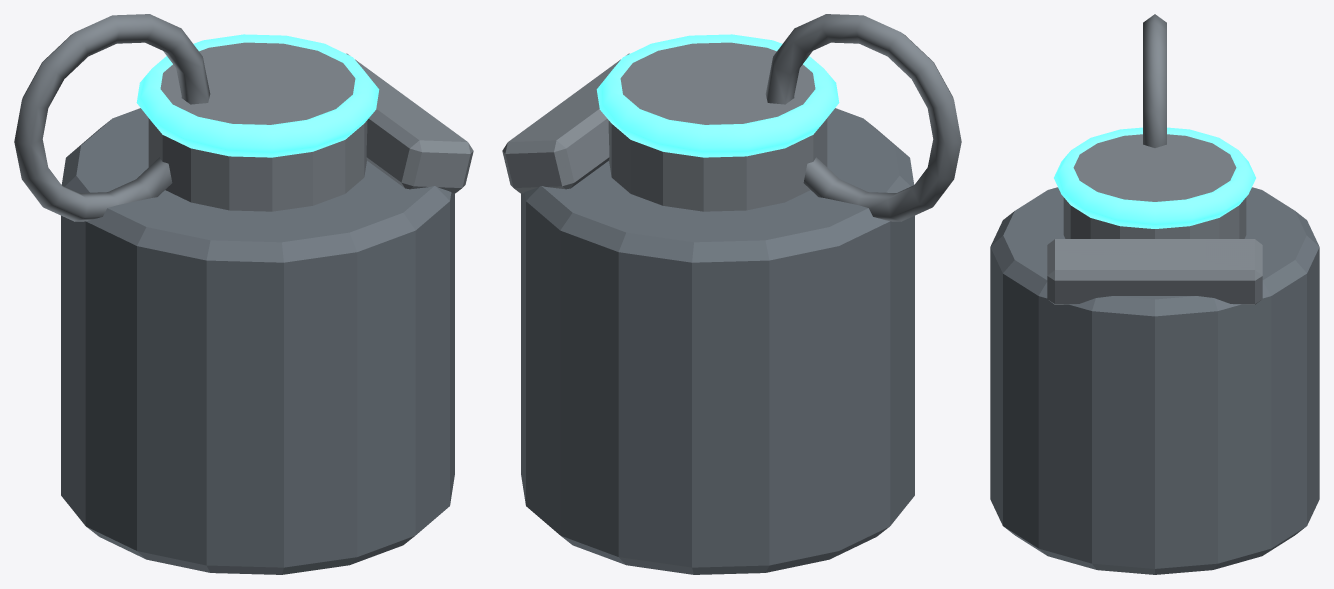
Rendered from PROP_Grenade_FP_v01.glb.
The picture shows the model from 3 angles, left to right: view 1: azimuth 30°, elevation 25°; view 2: azimuth 150°, elevation 25°; view 3: azimuth 270°, elevation 25°; orthographic projection. The views are drawn at different scales.
Visible parts, largest first — view 1: MESH_Prop, MESH_SafetyRing, MESH_TimerLight; view 2: MESH_Prop, MESH_SafetyRing, MESH_TimerLight; view 3: MESH_Prop, MESH_TimerLight, MESH_SafetyRing.
Boxes of the visible parts, x1,y1,x2,y2 form: MESH_Prop: (61, 42, 473, 574); MESH_SafetyRing: (14, 14, 210, 221); MESH_TimerLight: (136, 34, 379, 157); MESH_Prop: (502, 42, 914, 574); MESH_SafetyRing: (765, 14, 961, 221); MESH_TimerLight: (596, 34, 839, 157); MESH_Prop: (990, 134, 1319, 574); MESH_TimerLight: (1054, 127, 1255, 228); MESH_SafetyRing: (1143, 14, 1166, 147).
Size of the model in its own units: 0.157 by 0.187 by 0.13.
